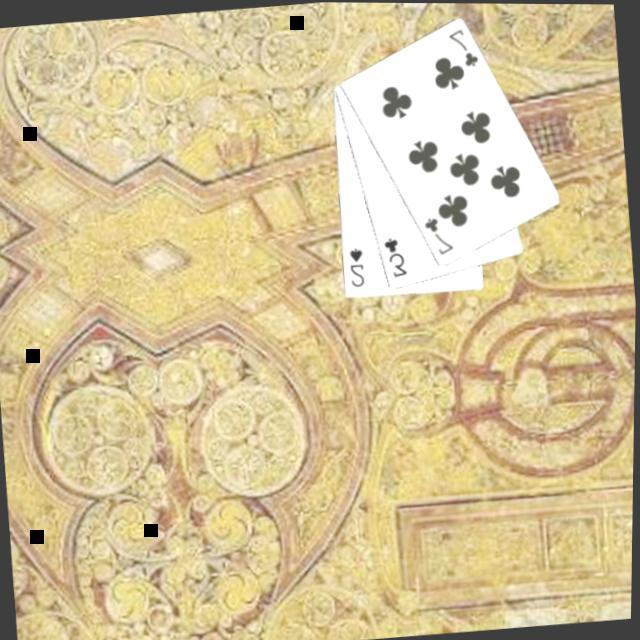2S: (343, 241, 367, 288)
3C: (378, 231, 411, 279)
7C: (442, 22, 482, 70), (418, 210, 457, 256)
